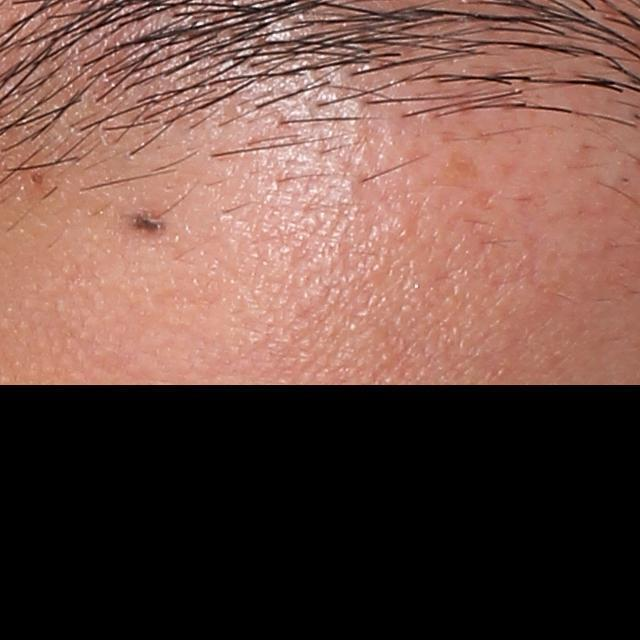comedo: (23, 170, 51, 191)
nevus: (124, 209, 170, 231)
